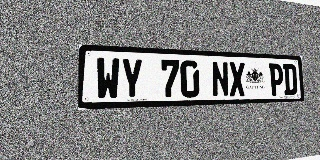0: (180, 60, 199, 98)
7: (160, 59, 180, 98)
D: (283, 64, 297, 95)
N: (211, 61, 229, 97)
P: (269, 63, 284, 96)
W: (96, 57, 120, 100)
X: (229, 62, 246, 97)
Y: (121, 58, 143, 99)
